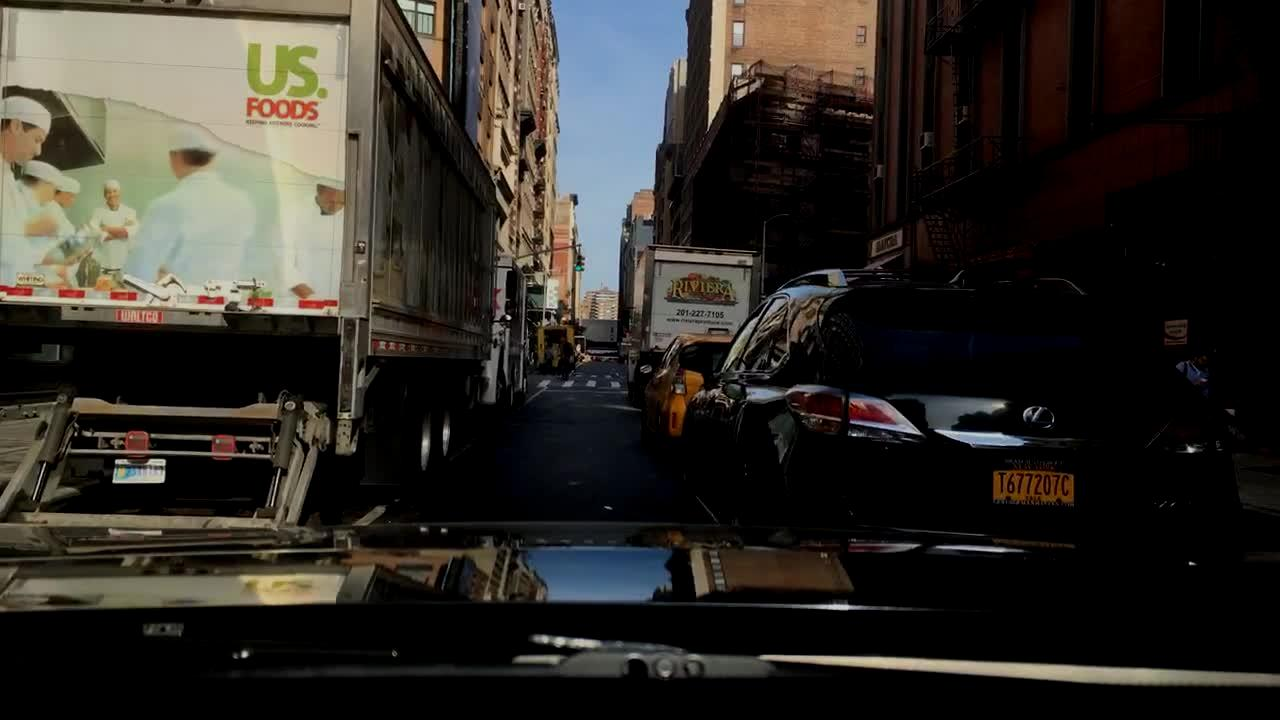lexus: (1014, 401, 1068, 439)
